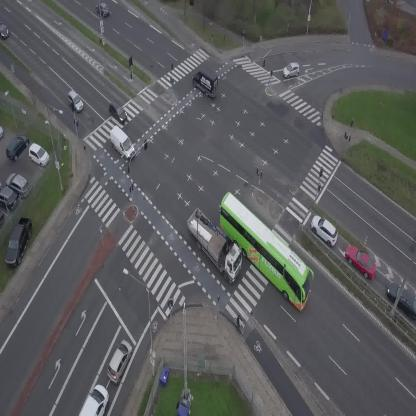bicycle: (231, 312, 246, 335)
bus: (202, 190, 326, 312)
car: (340, 240, 382, 284), (102, 337, 137, 385), (306, 211, 344, 249), (79, 381, 115, 416), (104, 100, 131, 126), (63, 88, 86, 114), (280, 61, 301, 79), (0, 21, 9, 39)
lorry: (174, 206, 254, 286), (187, 64, 225, 100), (104, 124, 140, 161)
